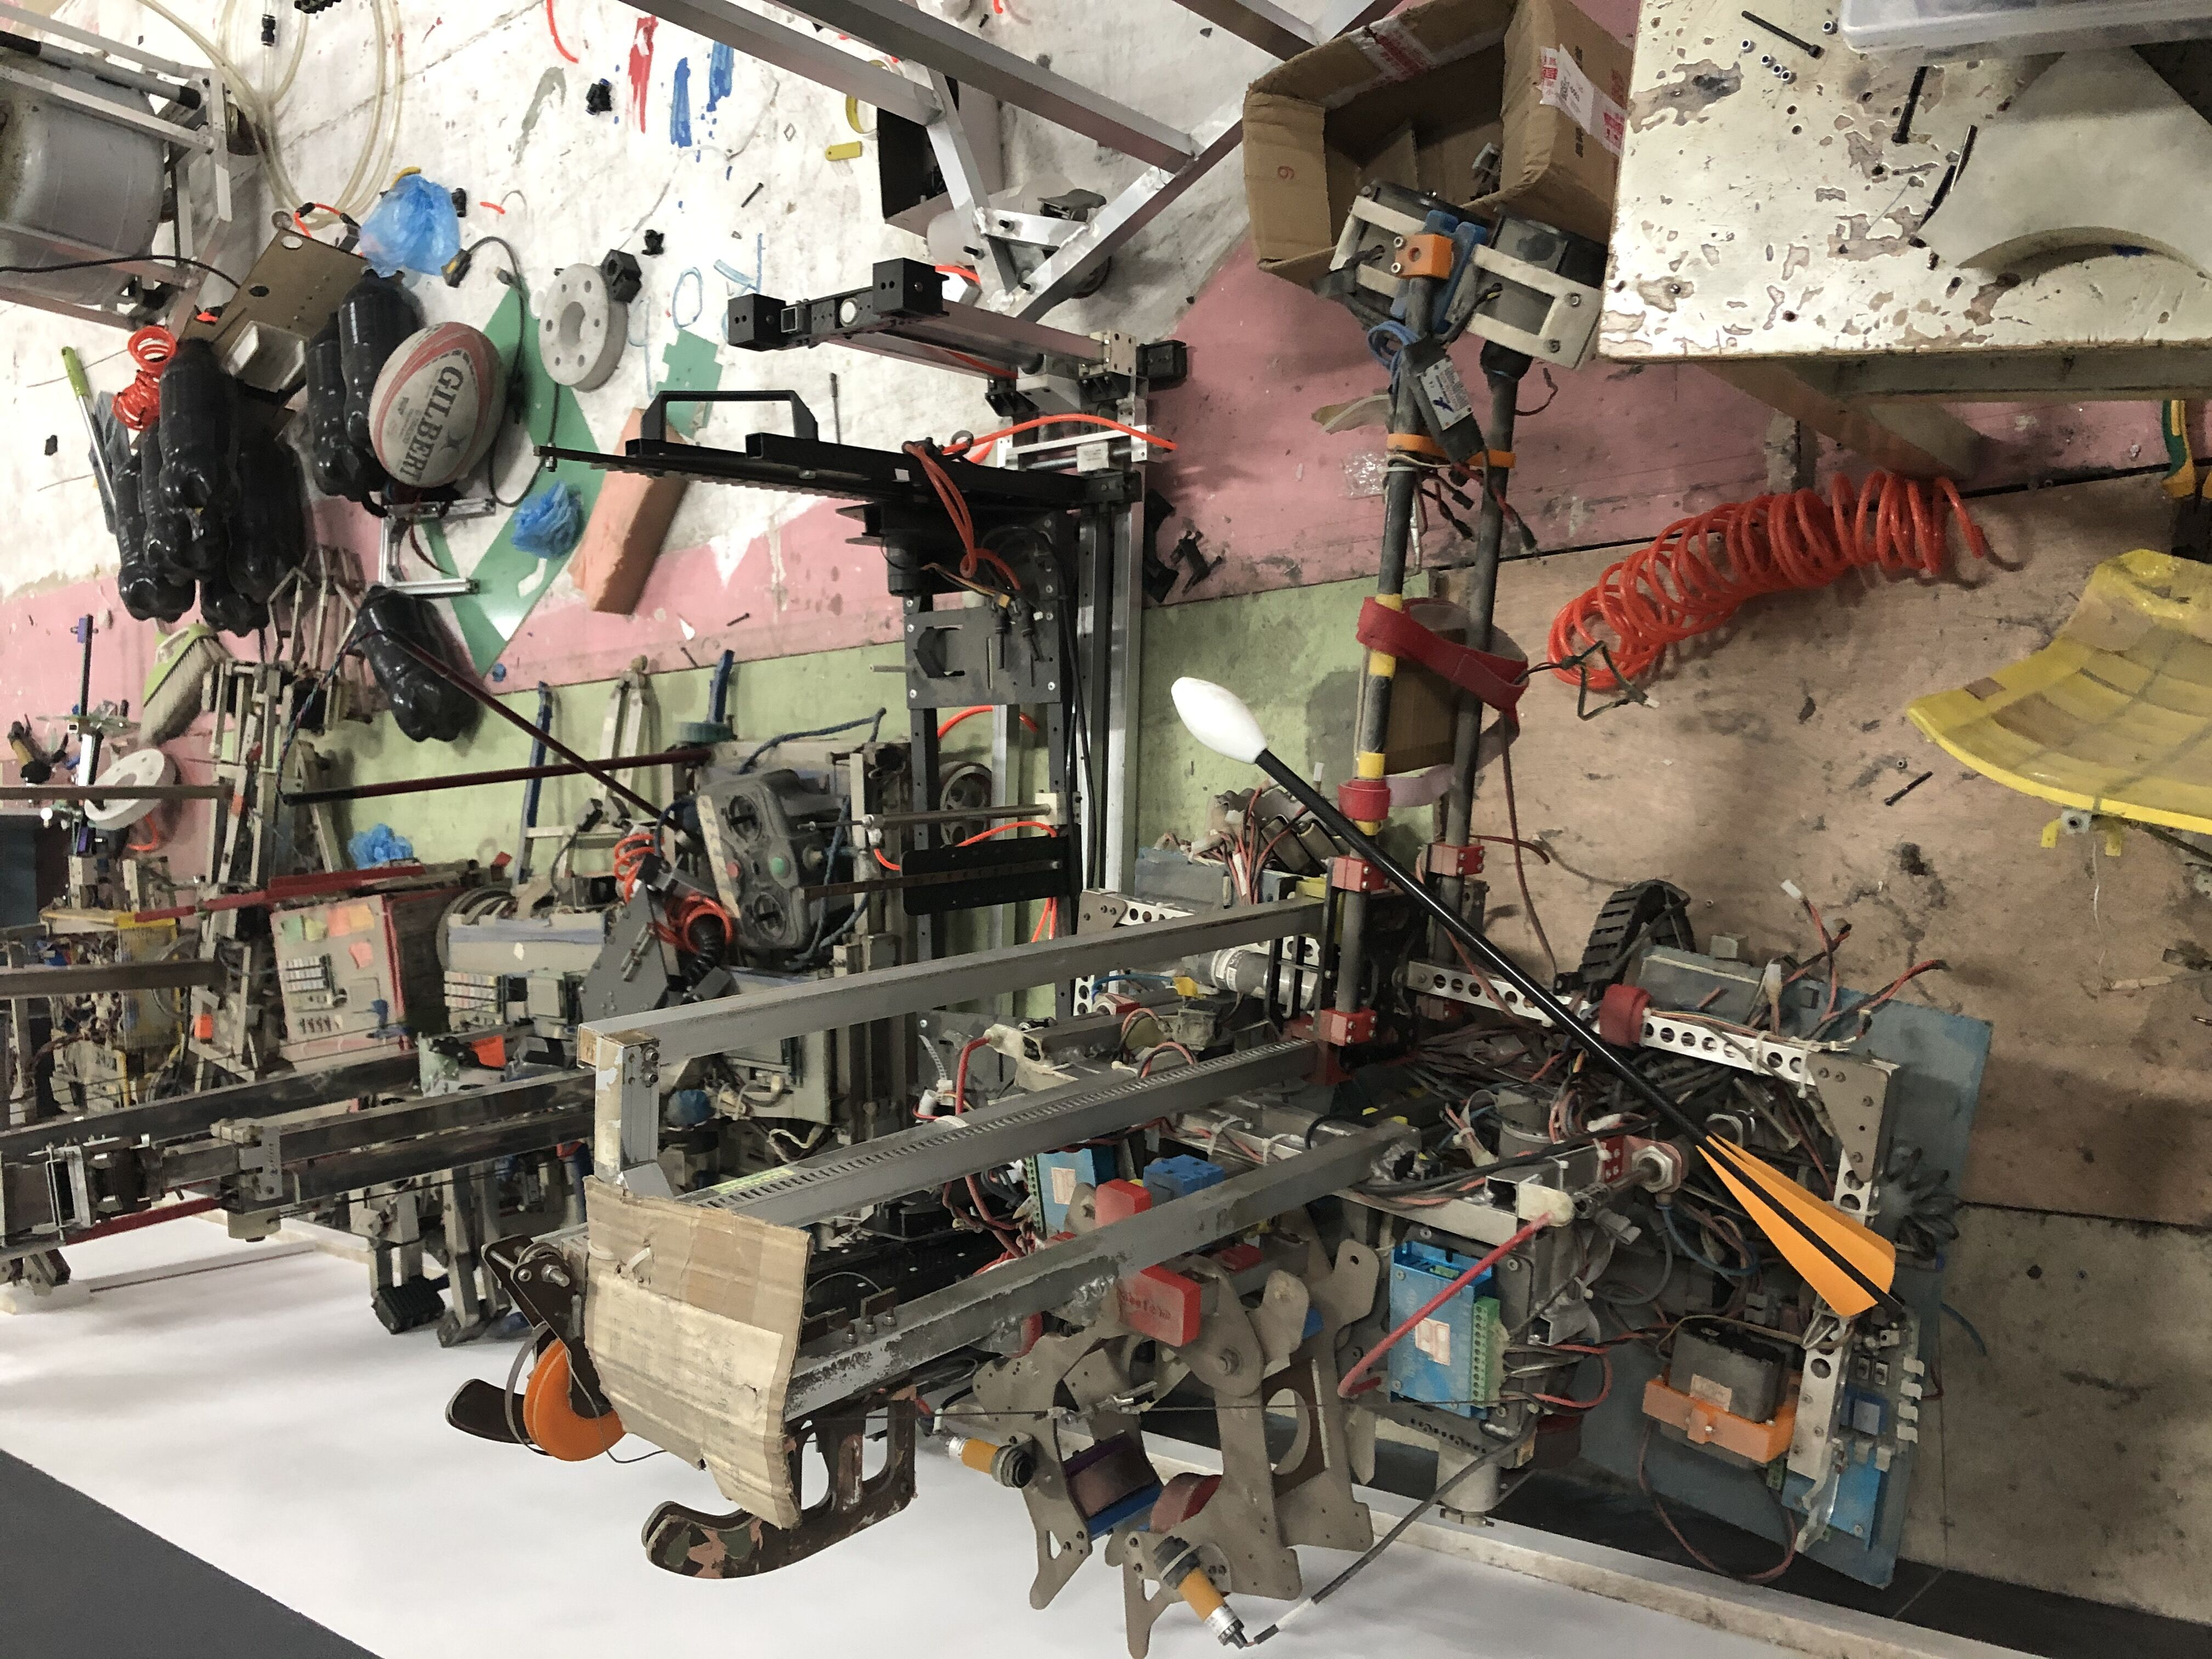arrow: (1167, 669, 1902, 1326)
arrowFront: (1167, 669, 1268, 763)
